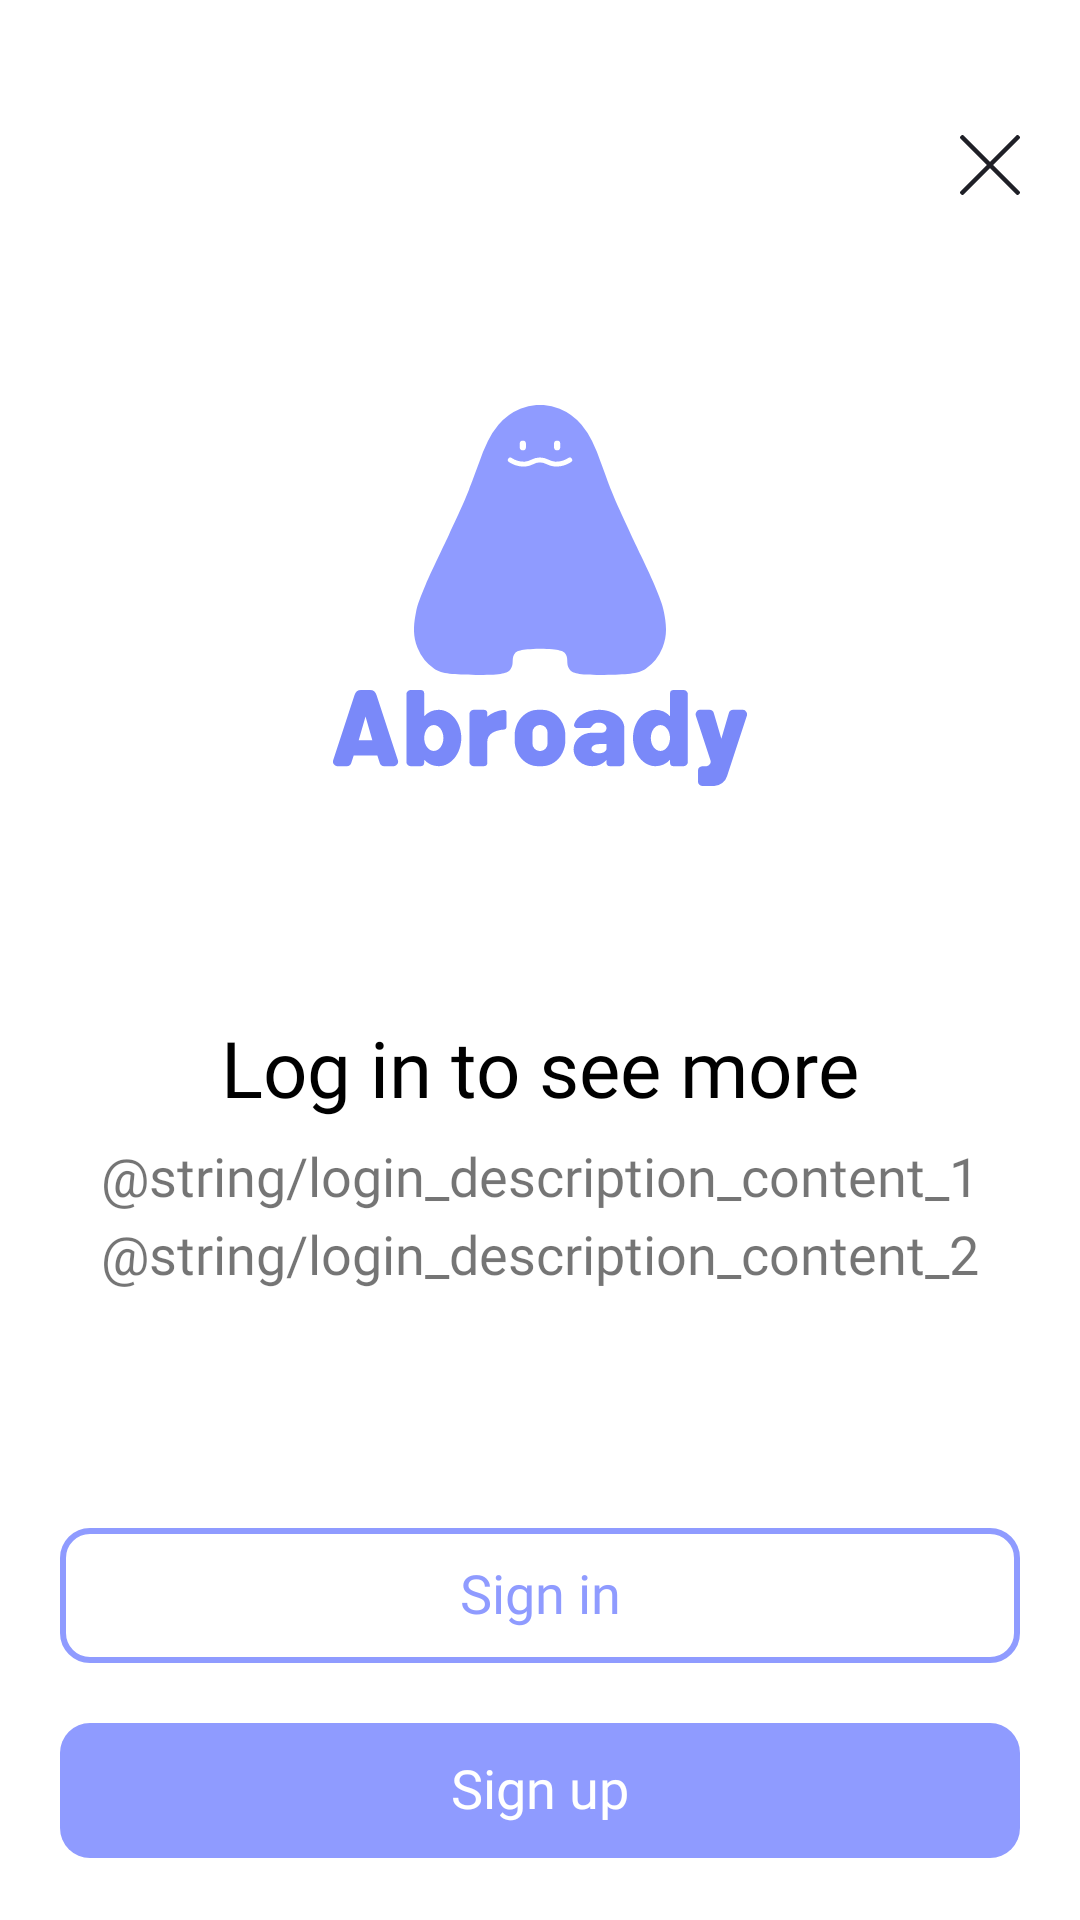

Icons on this 1080*1920 Android screen, each with its box as box(x1, y1, x2, y2):
close: box(960, 135, 1020, 195)
